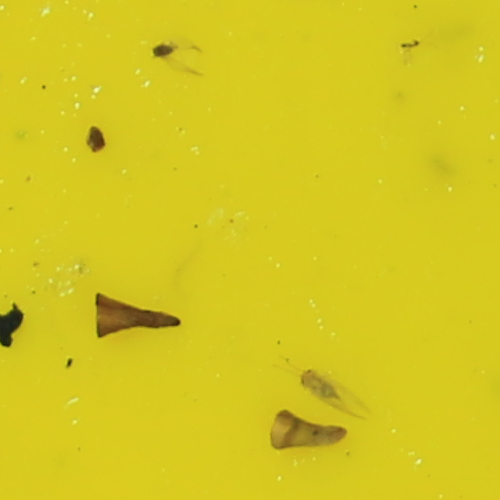Glycaspis: (297, 366, 340, 399)
psylla: (152, 43, 173, 57)
